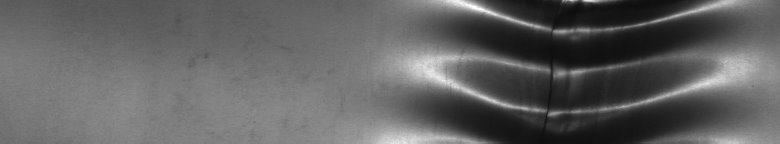ke: (404, 4, 747, 136)
